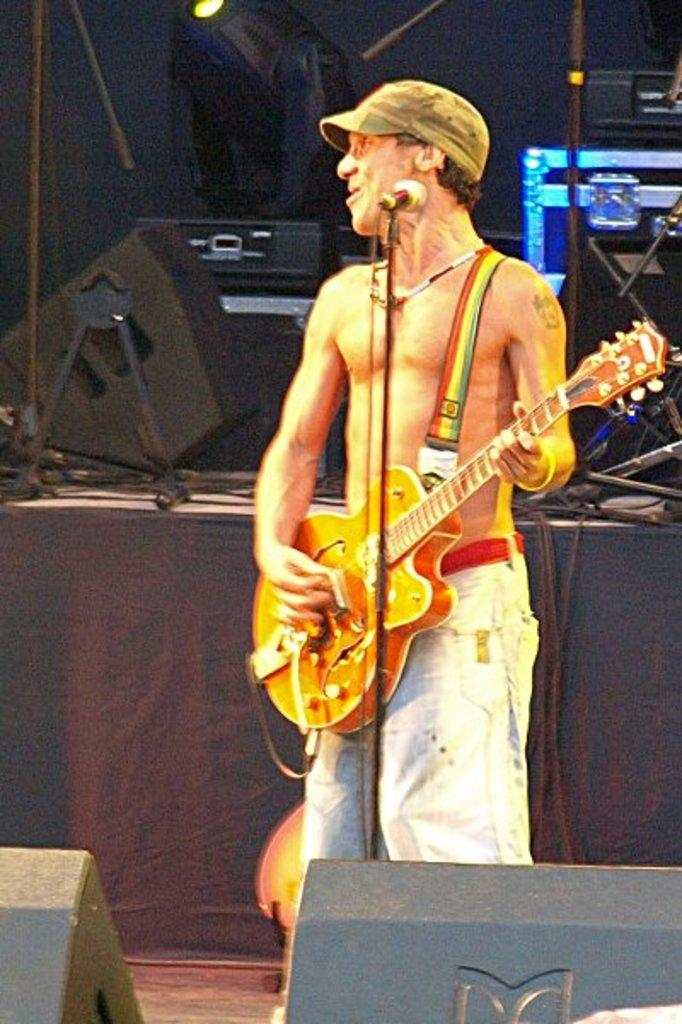Hat: (322, 76, 488, 180)
